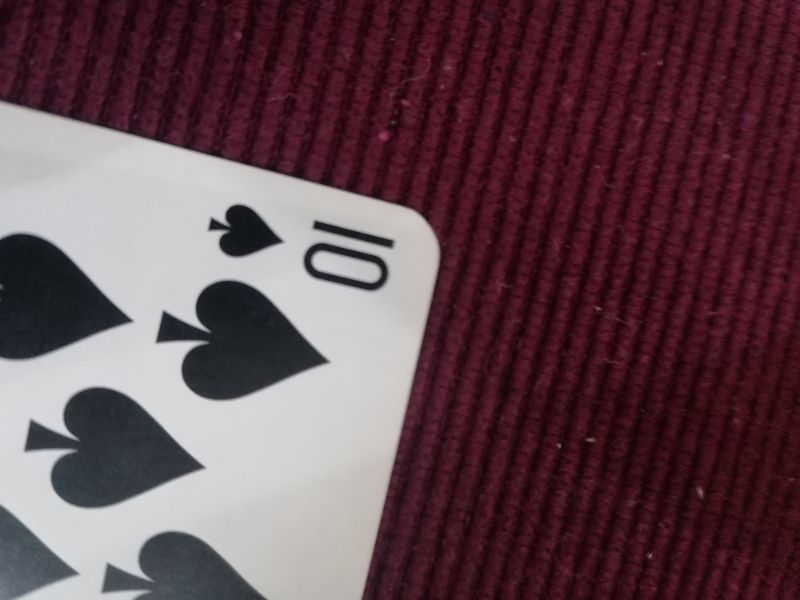Ts: (204, 193, 399, 294)
